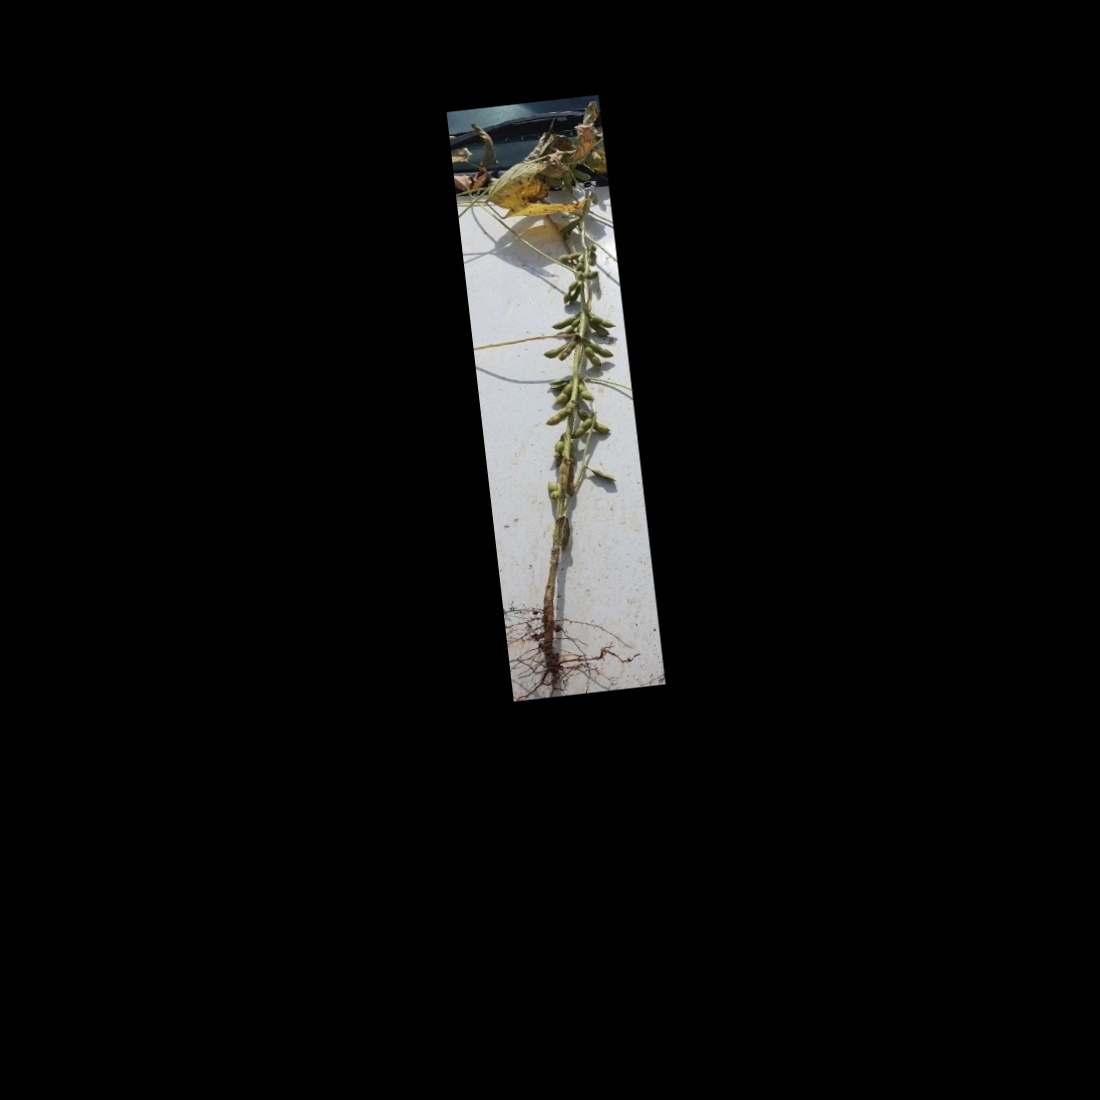pod: (541, 405, 576, 428), (567, 415, 596, 440), (580, 343, 603, 370), (589, 465, 618, 486), (558, 279, 579, 306), (554, 340, 579, 363), (586, 317, 609, 339), (593, 310, 618, 329), (564, 464, 577, 497), (576, 382, 595, 403), (560, 319, 580, 338), (557, 249, 584, 263), (550, 433, 567, 453), (585, 243, 598, 268), (547, 480, 560, 501), (589, 190, 600, 208)
soy: (460, 116, 656, 684)
